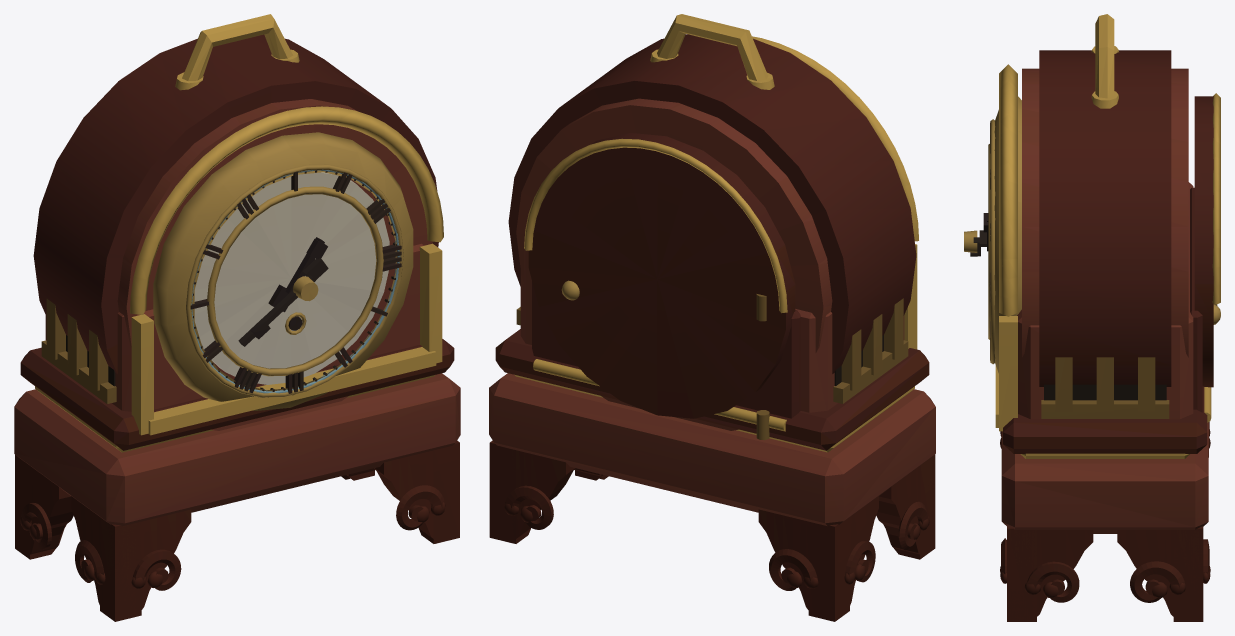
The model's file is clock-mantel.glb.
The picture shows the model from 3 angles, left to right: view 1: azimuth 30°, elevation 25°; view 2: azimuth 150°, elevation 25°; view 3: azimuth 270°, elevation 25°; orthographic projection. The views are drawn at different scales.
Visible parts, largest first — view 1: clock_mantel; view 2: clock_mantel; view 3: clock_mantel.
Part boxes in pixels (left/top/right/bottom): clock_mantel: left=14, top=14, right=460, bottom=621; clock_mantel: left=489, top=14, right=935, bottom=621; clock_mantel: left=964, top=14, right=1220, bottom=621.
Bounding box in the file's own units: 0.3028 × 0.4206 × 0.1924.
